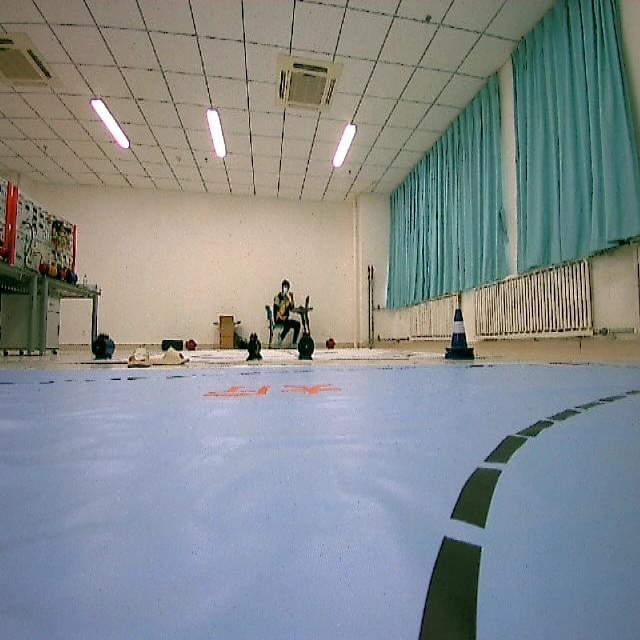obstacle: (427, 304, 480, 362)
